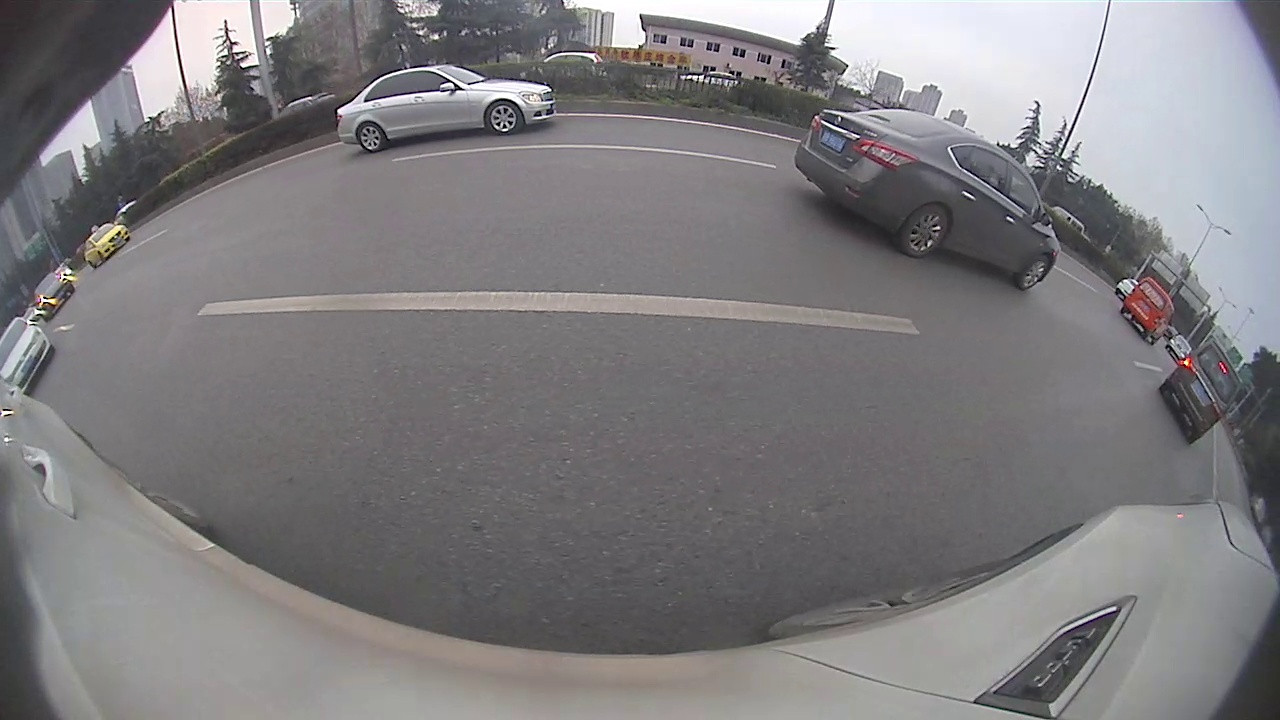car: (794, 108, 1063, 293), (335, 67, 558, 154), (1160, 338, 1243, 444), (0, 316, 54, 396), (1122, 276, 1176, 345), (83, 224, 131, 271)
front: (484, 100, 523, 138), (1017, 256, 1050, 293)
rear: (902, 201, 950, 259), (356, 121, 385, 154)
